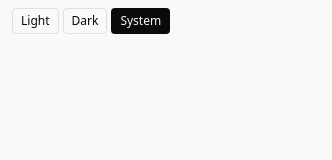
Scenario: ThemeToggle › system removes the forced theme
The image size is (332, 160).
Click the button "Light".
click(35, 21)  # box [12,8,58,34]
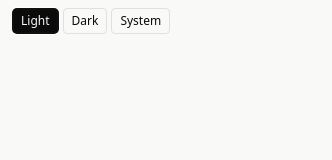
Click the button "System".
click(141, 21)  # box [111,8,170,34]
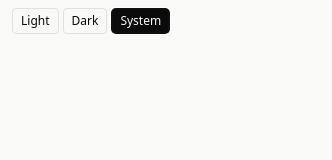
Check: the button "System" is pressed, box [111,8,170,34]
